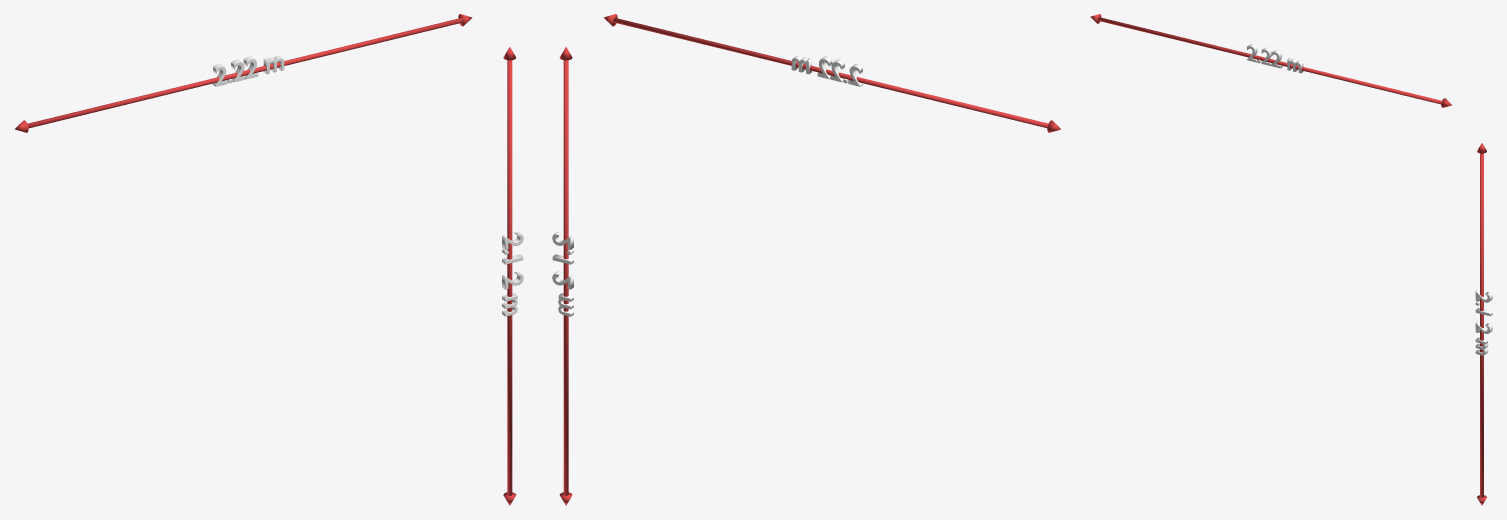
Rendered from dimentionFDDM5.gltf.
3 renders of one model, left to right at view 1: azimuth 30°, elevation 25°; view 2: azimuth 150°, elevation 25°; view 3: azimuth 330°, elevation 25°, orthographic. The views are drawn at different scales.
Visible parts, largest first — view 1: Text.002; view 2: Text.002; view 3: Text.002.
Boxes of the visible parts, x1,y1,x2,y2 form: Text.002: (15, 14, 523, 505); Text.002: (552, 14, 1060, 505); Text.002: (1090, 14, 1492, 505).
Bounding box in the file's own units: 20.07 × 19.33 × 0.4388.
